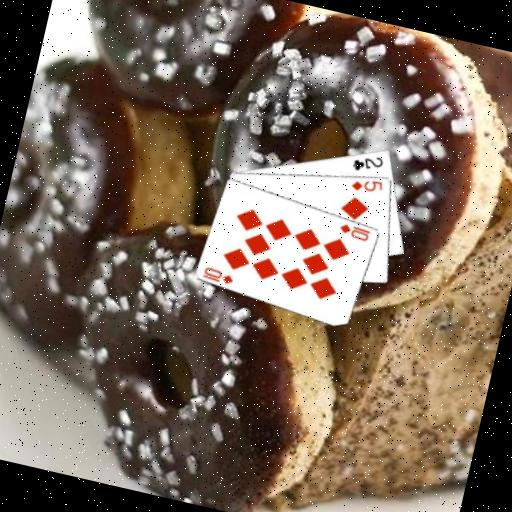10D: (200, 263, 238, 288), (335, 220, 373, 244)
2C: (349, 148, 387, 178)
5D: (348, 172, 385, 198)
